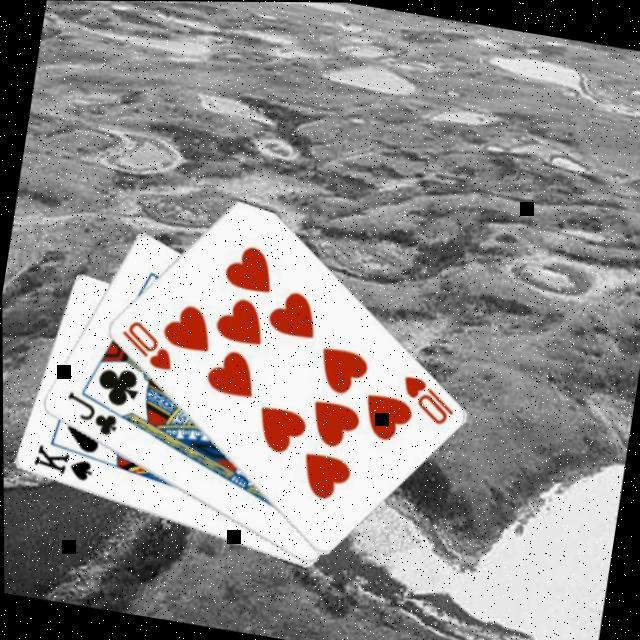10H: (112, 314, 178, 374), (393, 369, 459, 428)
JC: (56, 386, 122, 439)
KS: (26, 440, 96, 484)
